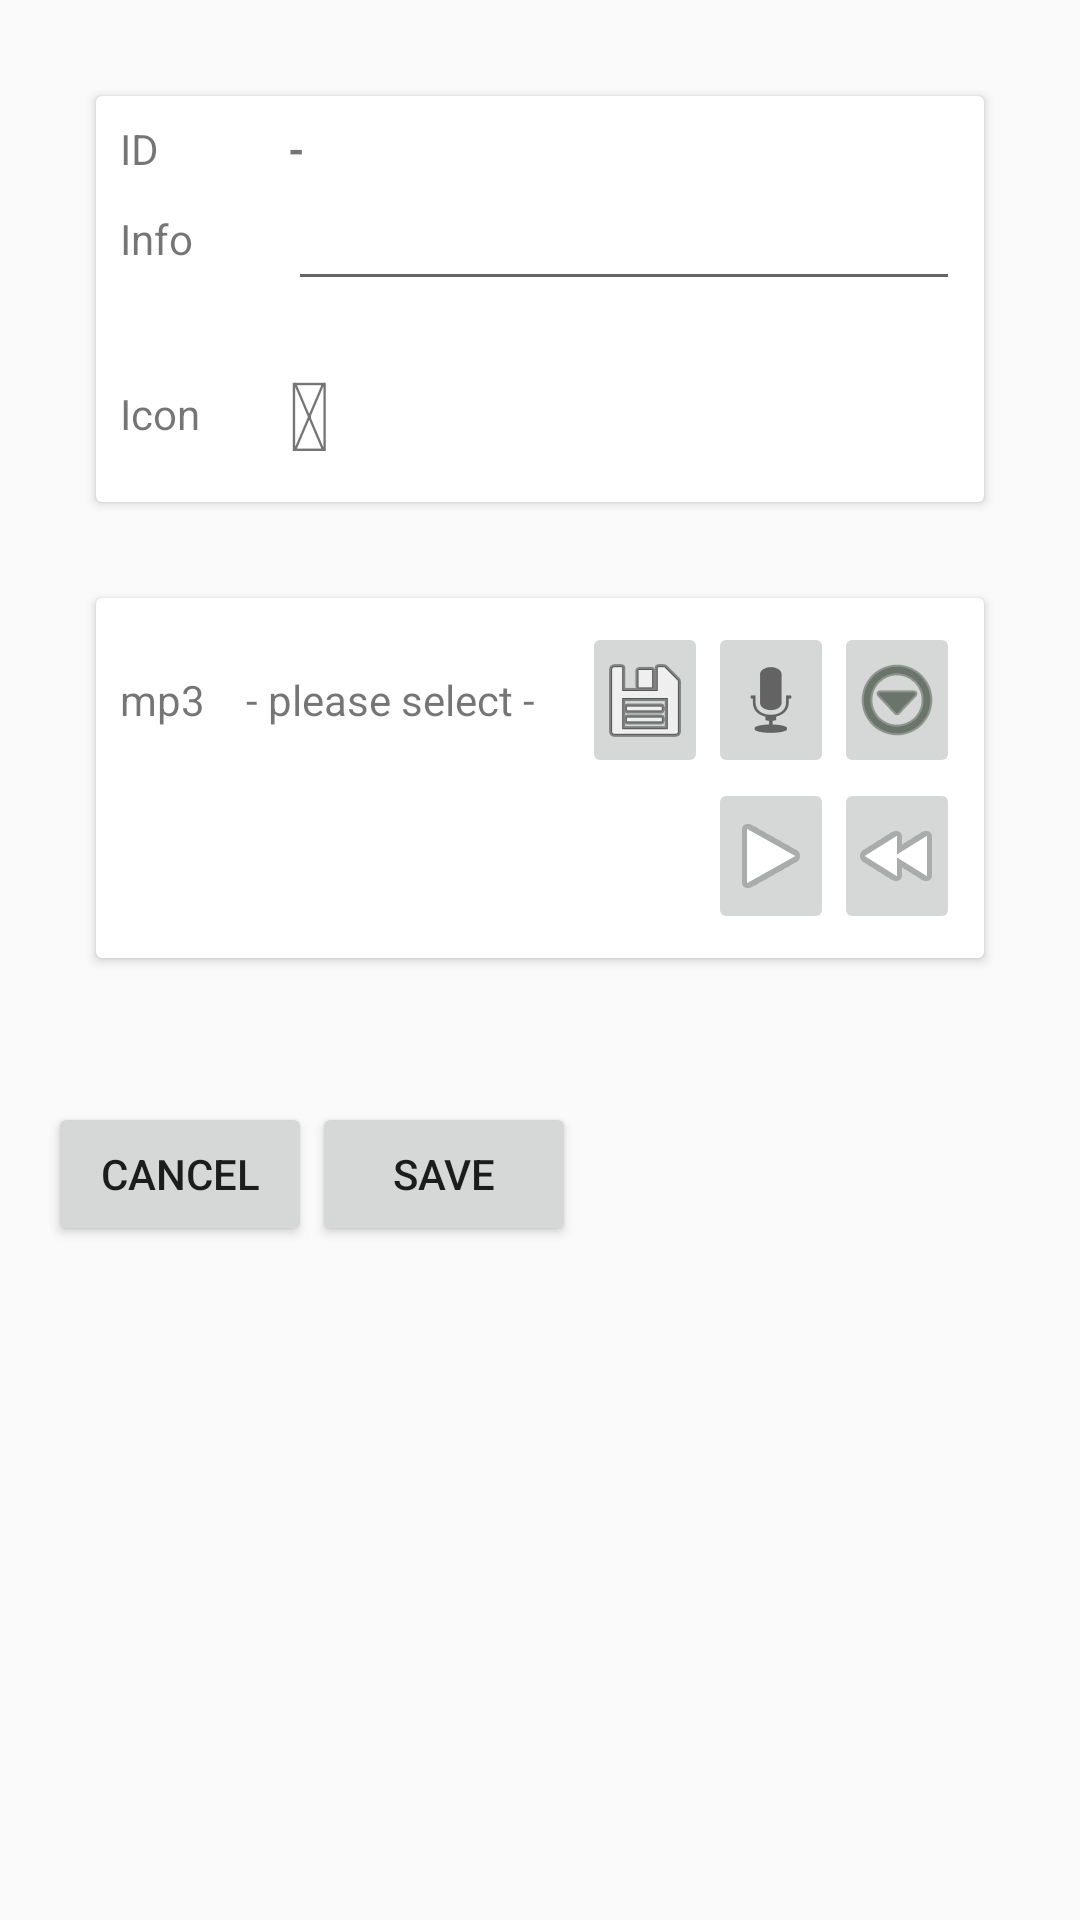

Screen size 1080w x 1920h. Icon name, then its center in pixels as (x=x, y=y):
more: (x=897, y=700)
play: (x=771, y=856)
rew: (x=897, y=856)
save: (x=645, y=700)
speak now: (x=771, y=700)
